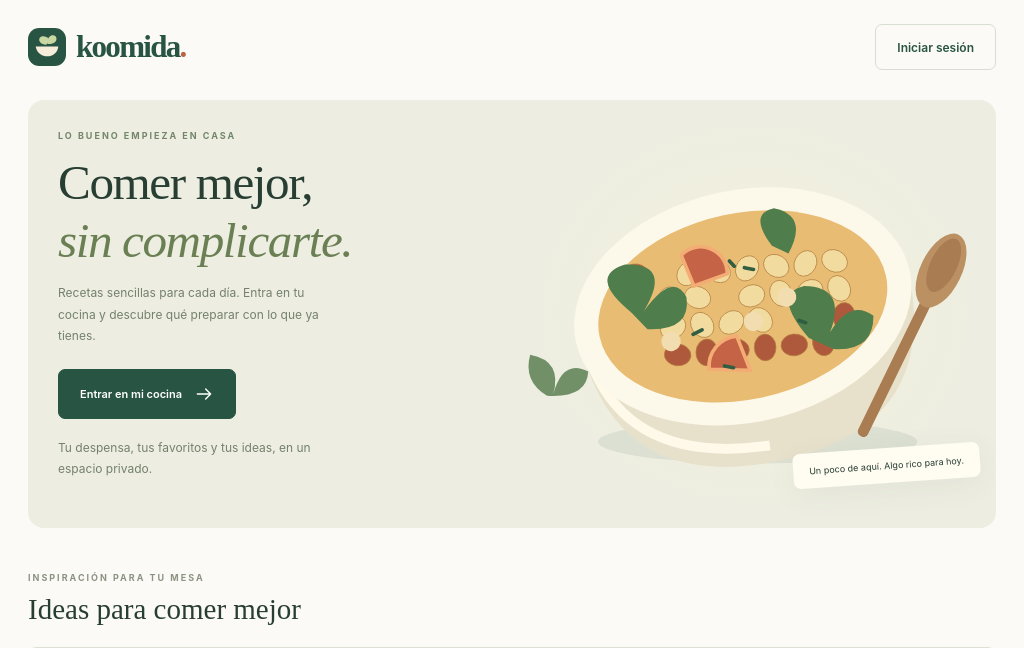
Test: public and private boundaries › explains rejected credentials and reveals the entered password on request
The width and height of the screenshot is (1024, 648).
Click the button "Iniciar sesión". click: (936, 47)
box: [875,24,996,70]
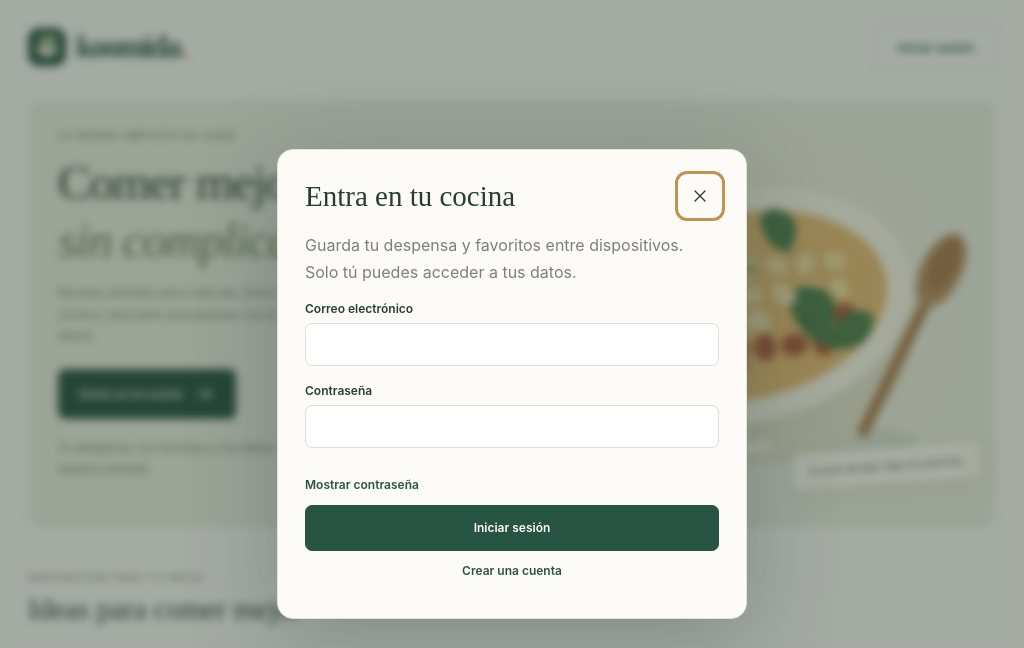
Type "account-a@example.invalid" into the field labelled "Correo electrónico". click: (512, 344)
box: [305,323,719,366]
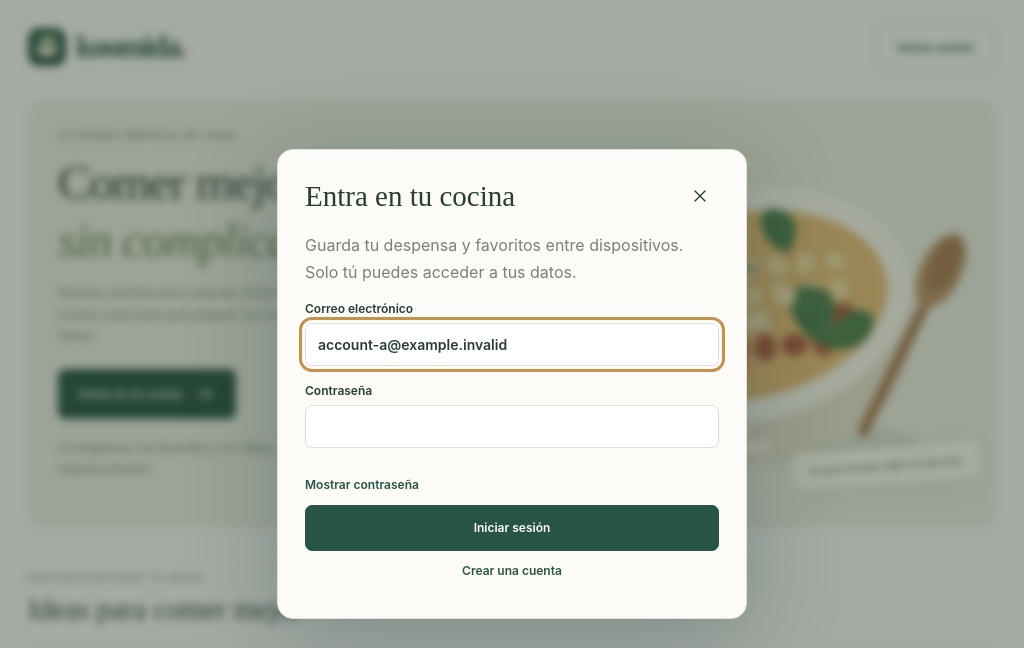
Type "wrong-test-only" into the password field labelled "Contraseña". click: (512, 426)
box: [305,405,719,448]
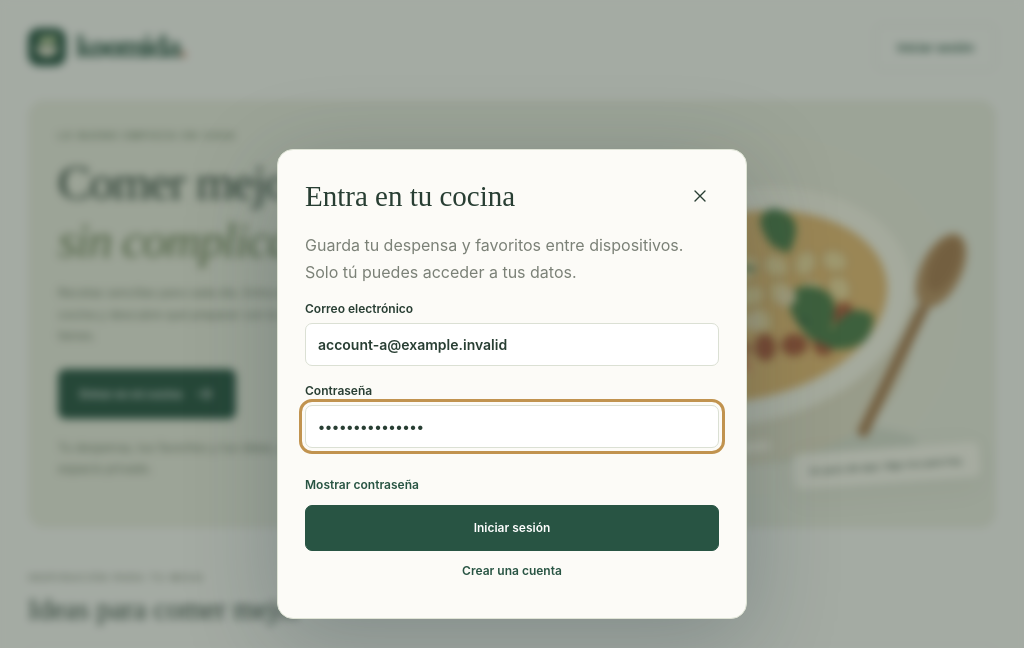
Click the button "Mostrar contraseña". click: (362, 485)
box: [305,465,419,505]
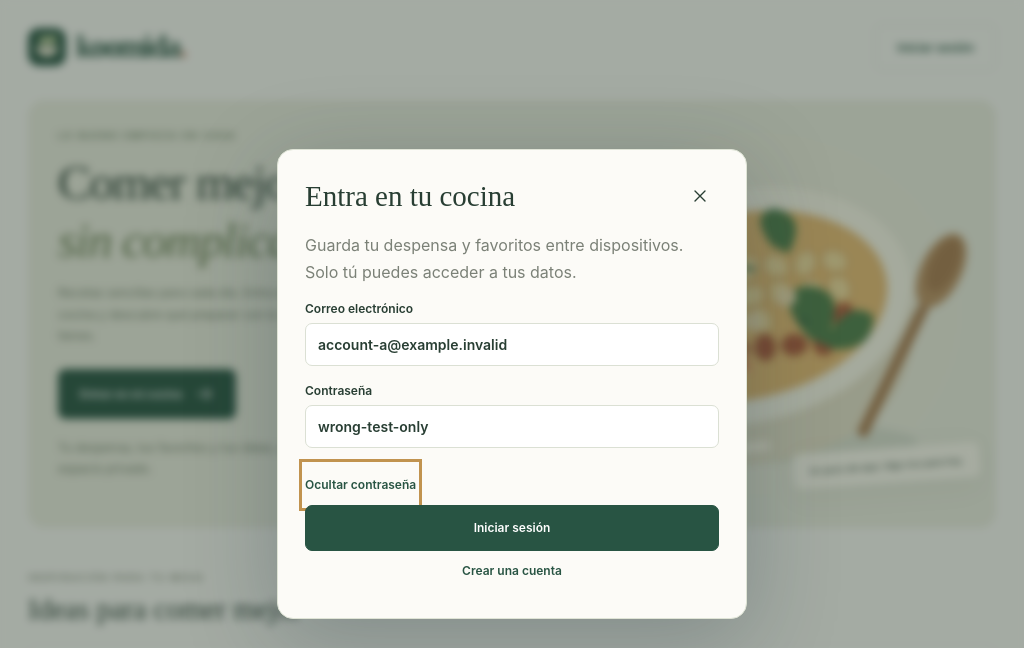
Click the button "Iniciar sesión". click: (512, 528)
box: [305,505,719,551]
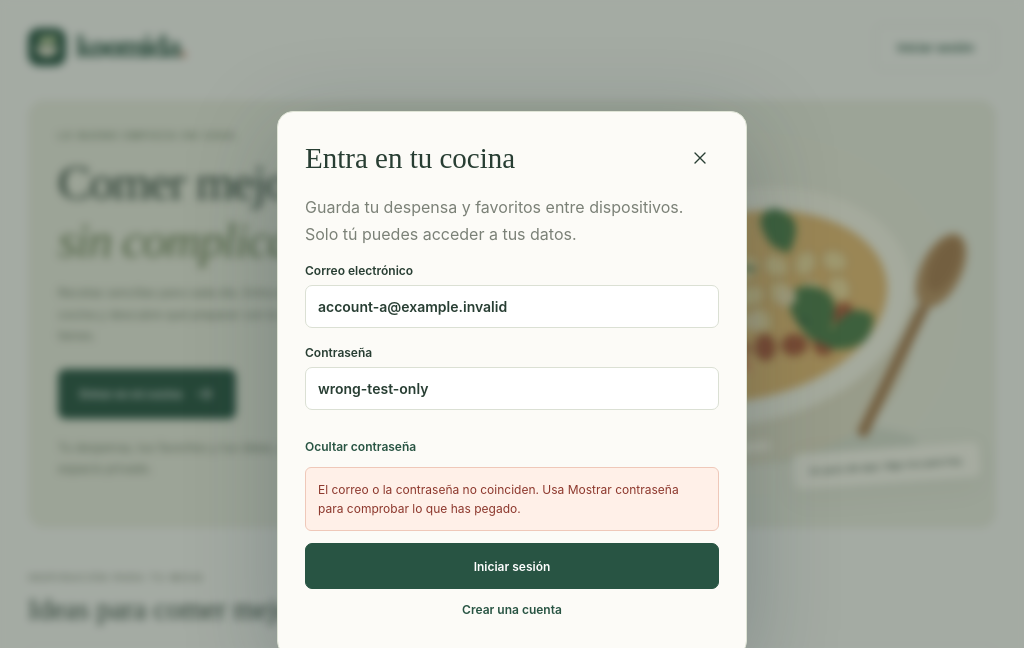
Expected: the message shows "no coinciden", [318,482,679,516]
